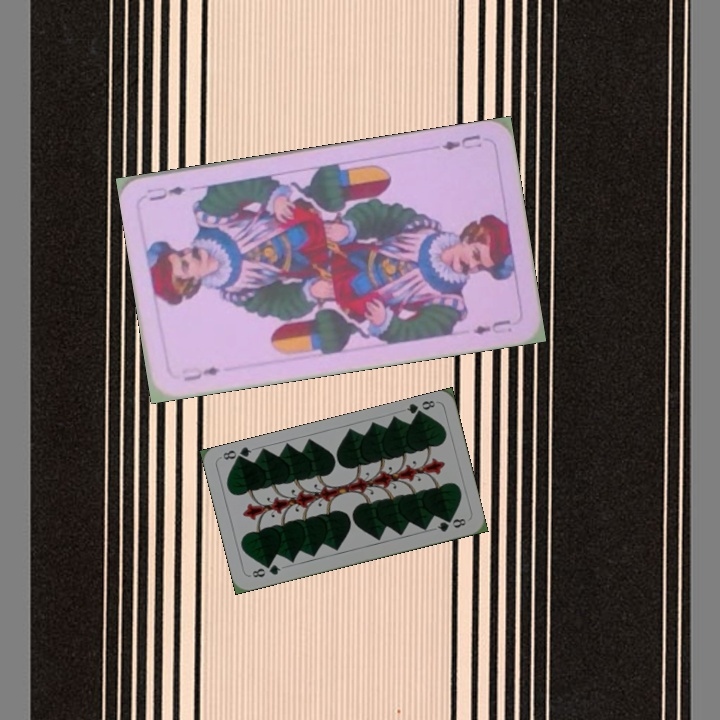EU: (437, 131, 484, 153), (177, 362, 223, 384)
G8: (403, 396, 438, 420), (248, 560, 283, 580)
